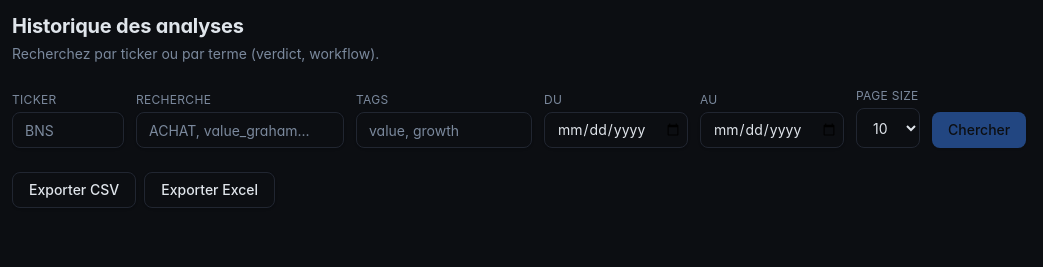
Test: AnnotationsExport — boutons dans HistoryPage › erreur API CSV affiche message d'erreur
Step 1. Click the button with test id "export-annotations-csv-btn" → [74, 190], box left=12, top=172, right=136, bottom=208
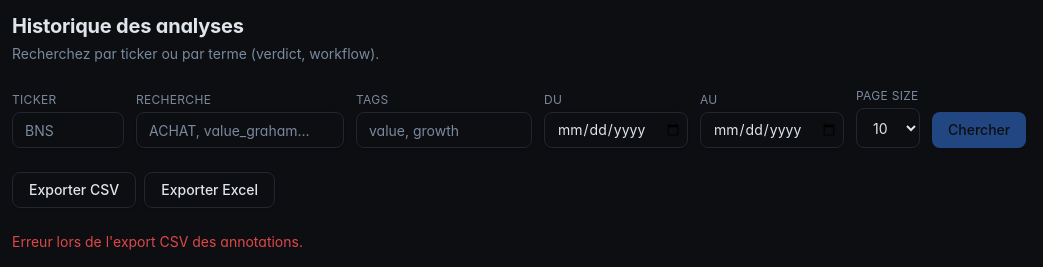
Expected: the text "Erreur lors de l'export CSV des annotations." is shown, left=12, top=233, right=303, bottom=250
